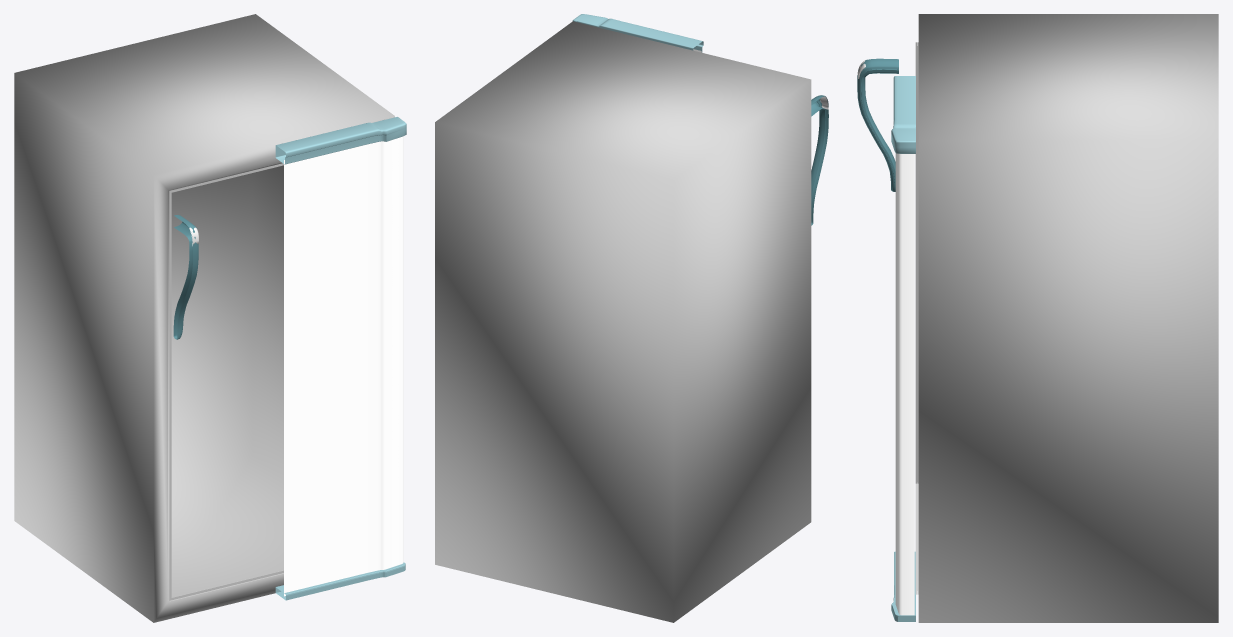
File: Refrigerator.glb
The picture shows the model from 3 angles, left to right: view 1: azimuth 30°, elevation 25°; view 2: azimuth 150°, elevation 25°; view 3: azimuth 270°, elevation 25°; orthographic projection. The views are drawn at different scales.
Visible parts, largest first — view 1: Plane, Plane.002, Plane.003, Plane.001, Circle, Plane.004; view 2: Plane, Plane.003, Circle; view 3: Plane, Plane.002, Plane.001, Plane.003, Circle.
Part boxes in pixels (bbox=[...]): Plane: bbox=[14, 14, 394, 622]; Plane.002: bbox=[284, 136, 403, 596]; Plane.003: bbox=[275, 117, 406, 164]; Plane.001: bbox=[169, 163, 283, 601]; Circle: bbox=[173, 215, 198, 339]; Plane.004: bbox=[275, 562, 405, 600]; Plane: bbox=[435, 21, 811, 622]; Plane.003: bbox=[572, 14, 703, 52]; Circle: bbox=[811, 95, 828, 225]; Plane: bbox=[918, 14, 1218, 622]; Plane.002: bbox=[895, 153, 914, 615]; Plane.001: bbox=[915, 42, 918, 594]; Plane.003: bbox=[891, 76, 915, 153]; Circle: bbox=[857, 58, 898, 191].
Bounding box in the file's own units: 2.01 × 3.56 × 2.41.
